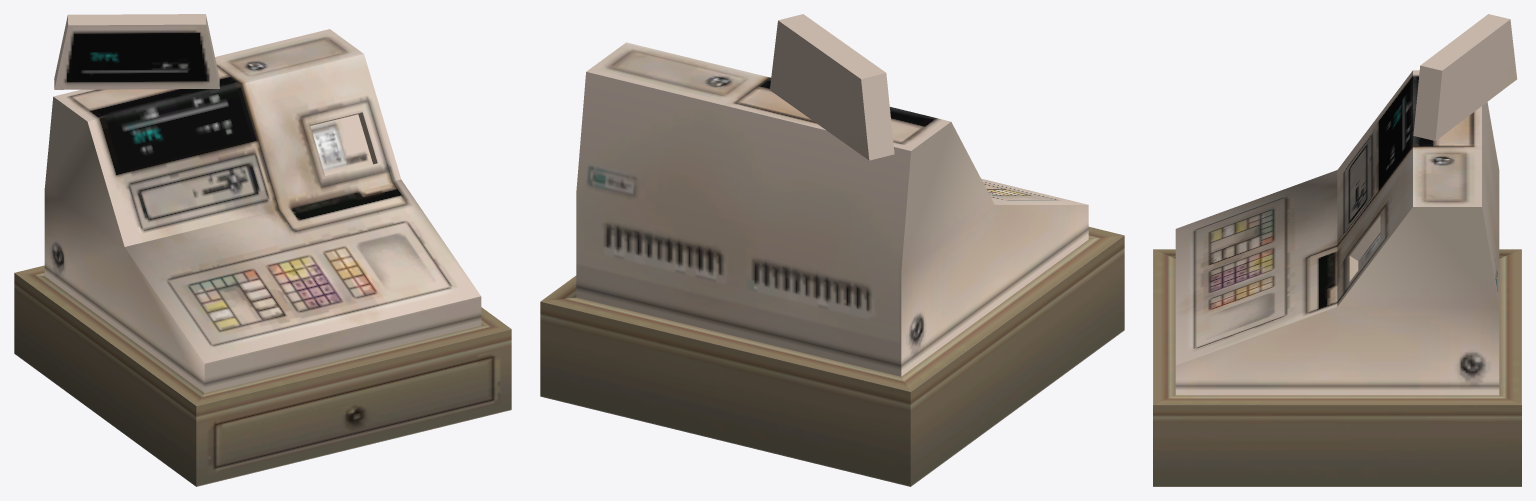
The model's file is cashregister.fbx.
3 renders of one model, left to right at view 1: azimuth 30°, elevation 25°; view 2: azimuth 150°, elevation 25°; view 3: azimuth 270°, elevation 25°, orthographic. The views are drawn at different scales.
Parts seen in each view (by area): view 1: mesh_0; view 2: mesh_0; view 3: mesh_0.
Part boxes in pixels (x1,y1,x2,y2): mesh_0: [14, 14, 511, 486]; mesh_0: [540, 14, 1124, 486]; mesh_0: [1153, 14, 1521, 486].
Size of the model in its own units: 60 by 60.26 by 60.
1 material, 1 textured.
